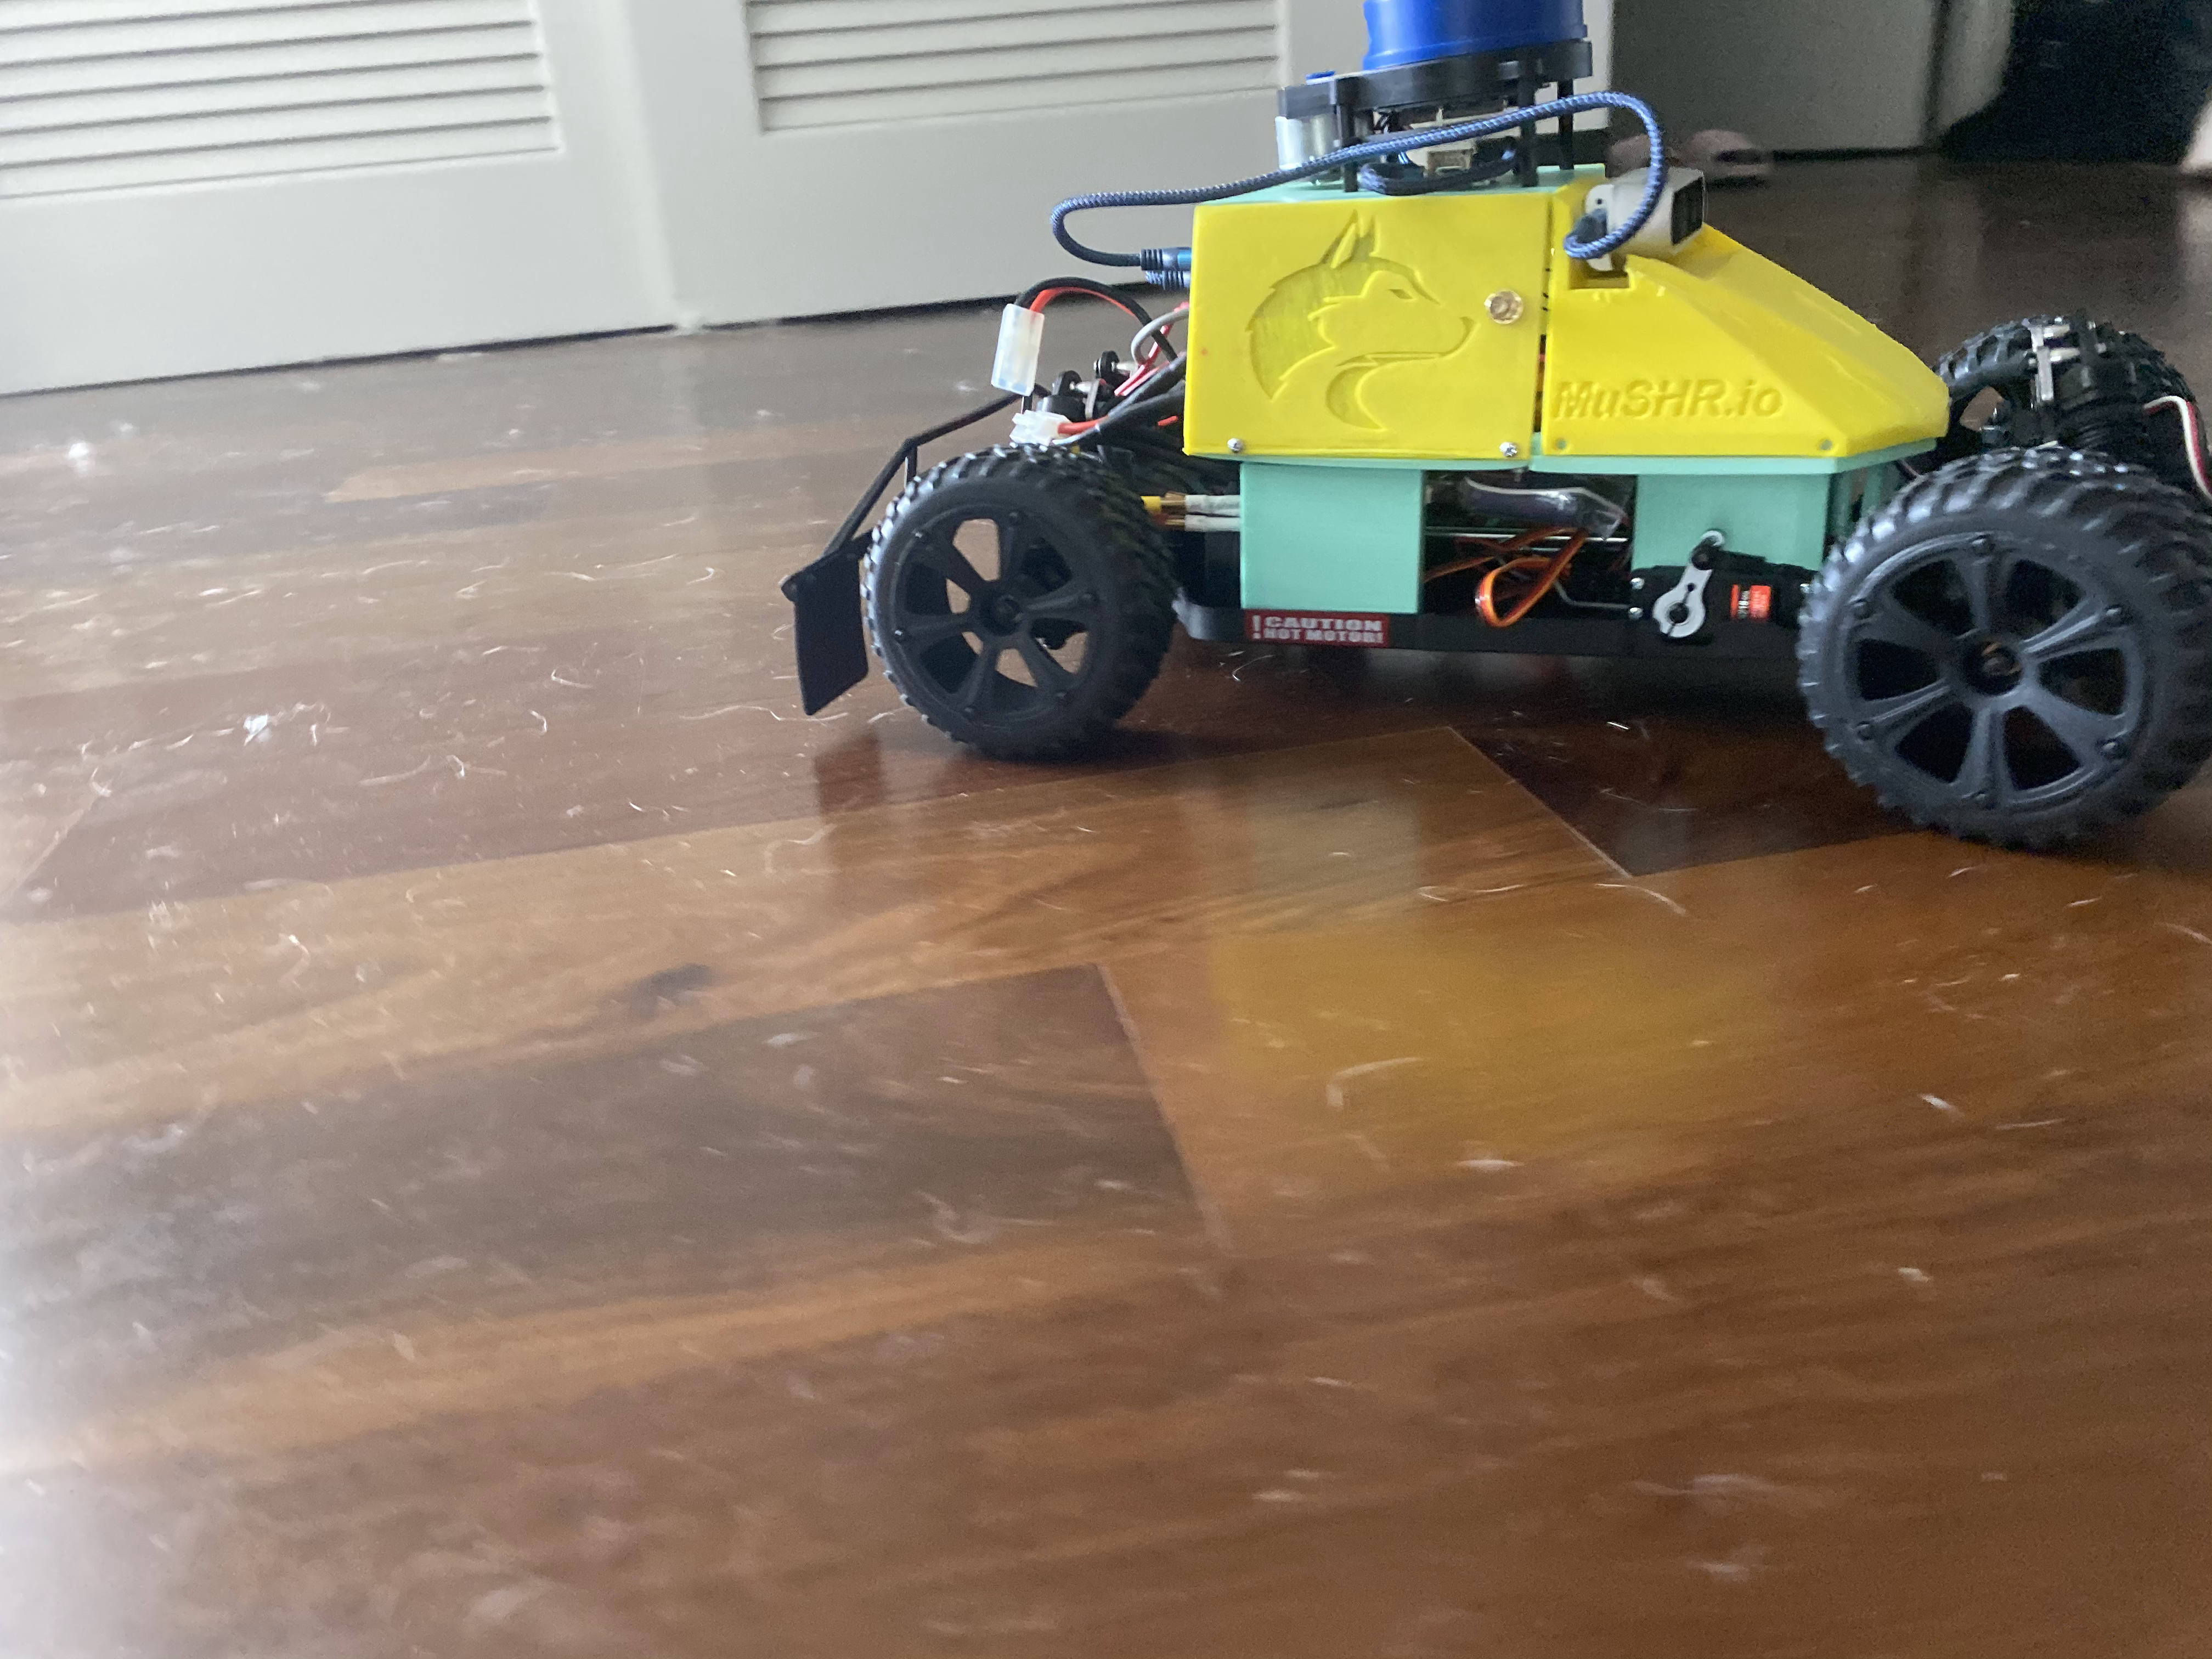mushr_car: (761, 2, 2212, 847)
